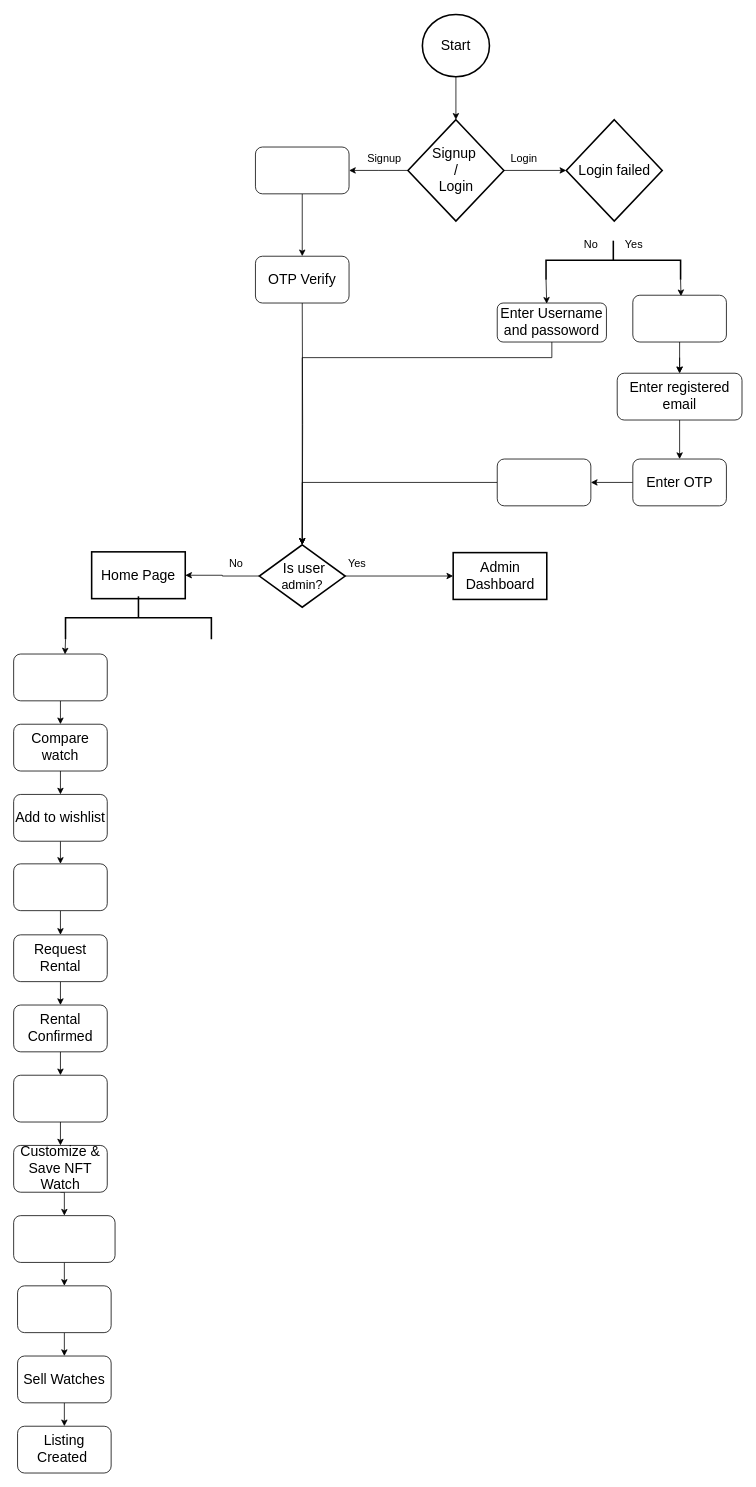
This 756x1487 diagram has some shape labels left out. Each missing label, with the box of its shape:
Auction Results (Winner): (13, 1215, 115, 1262)
Browse Watches: (13, 653, 107, 701)
Create new password: (496, 458, 591, 506)
Forgot Password: (632, 294, 726, 342)
Input Details: (255, 146, 349, 194)
NFT Watch Customization: (13, 1074, 107, 1122)
Notify Winner: (17, 1285, 111, 1333)
Rent / Lease Watch: (13, 863, 107, 911)
